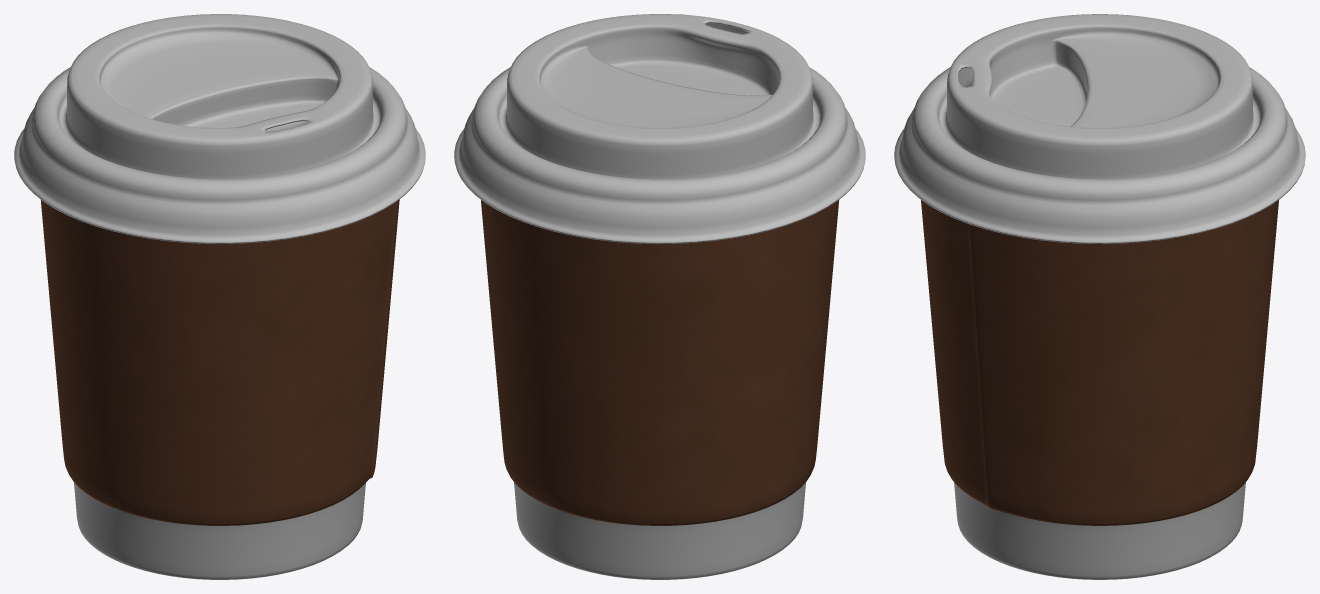
The model's file is coffeeCup.gltf.
The picture shows the model from 3 angles, left to right: view 1: azimuth 30°, elevation 25°; view 2: azimuth 150°, elevation 25°; view 3: azimuth 270°, elevation 25°; orthographic projection.
Visible parts, largest first — view 1: CupCoffee; view 2: CupCoffee; view 3: CupCoffee.
Boxes of the visible parts, bbox=[...] form: CupCoffee: bbox=[14, 14, 425, 579]; CupCoffee: bbox=[454, 14, 865, 579]; CupCoffee: bbox=[894, 14, 1305, 579].
Bounding box in the file's own units: 1.8 × 2.14 × 1.8.
Materials: 2 (1 with a texture image).
